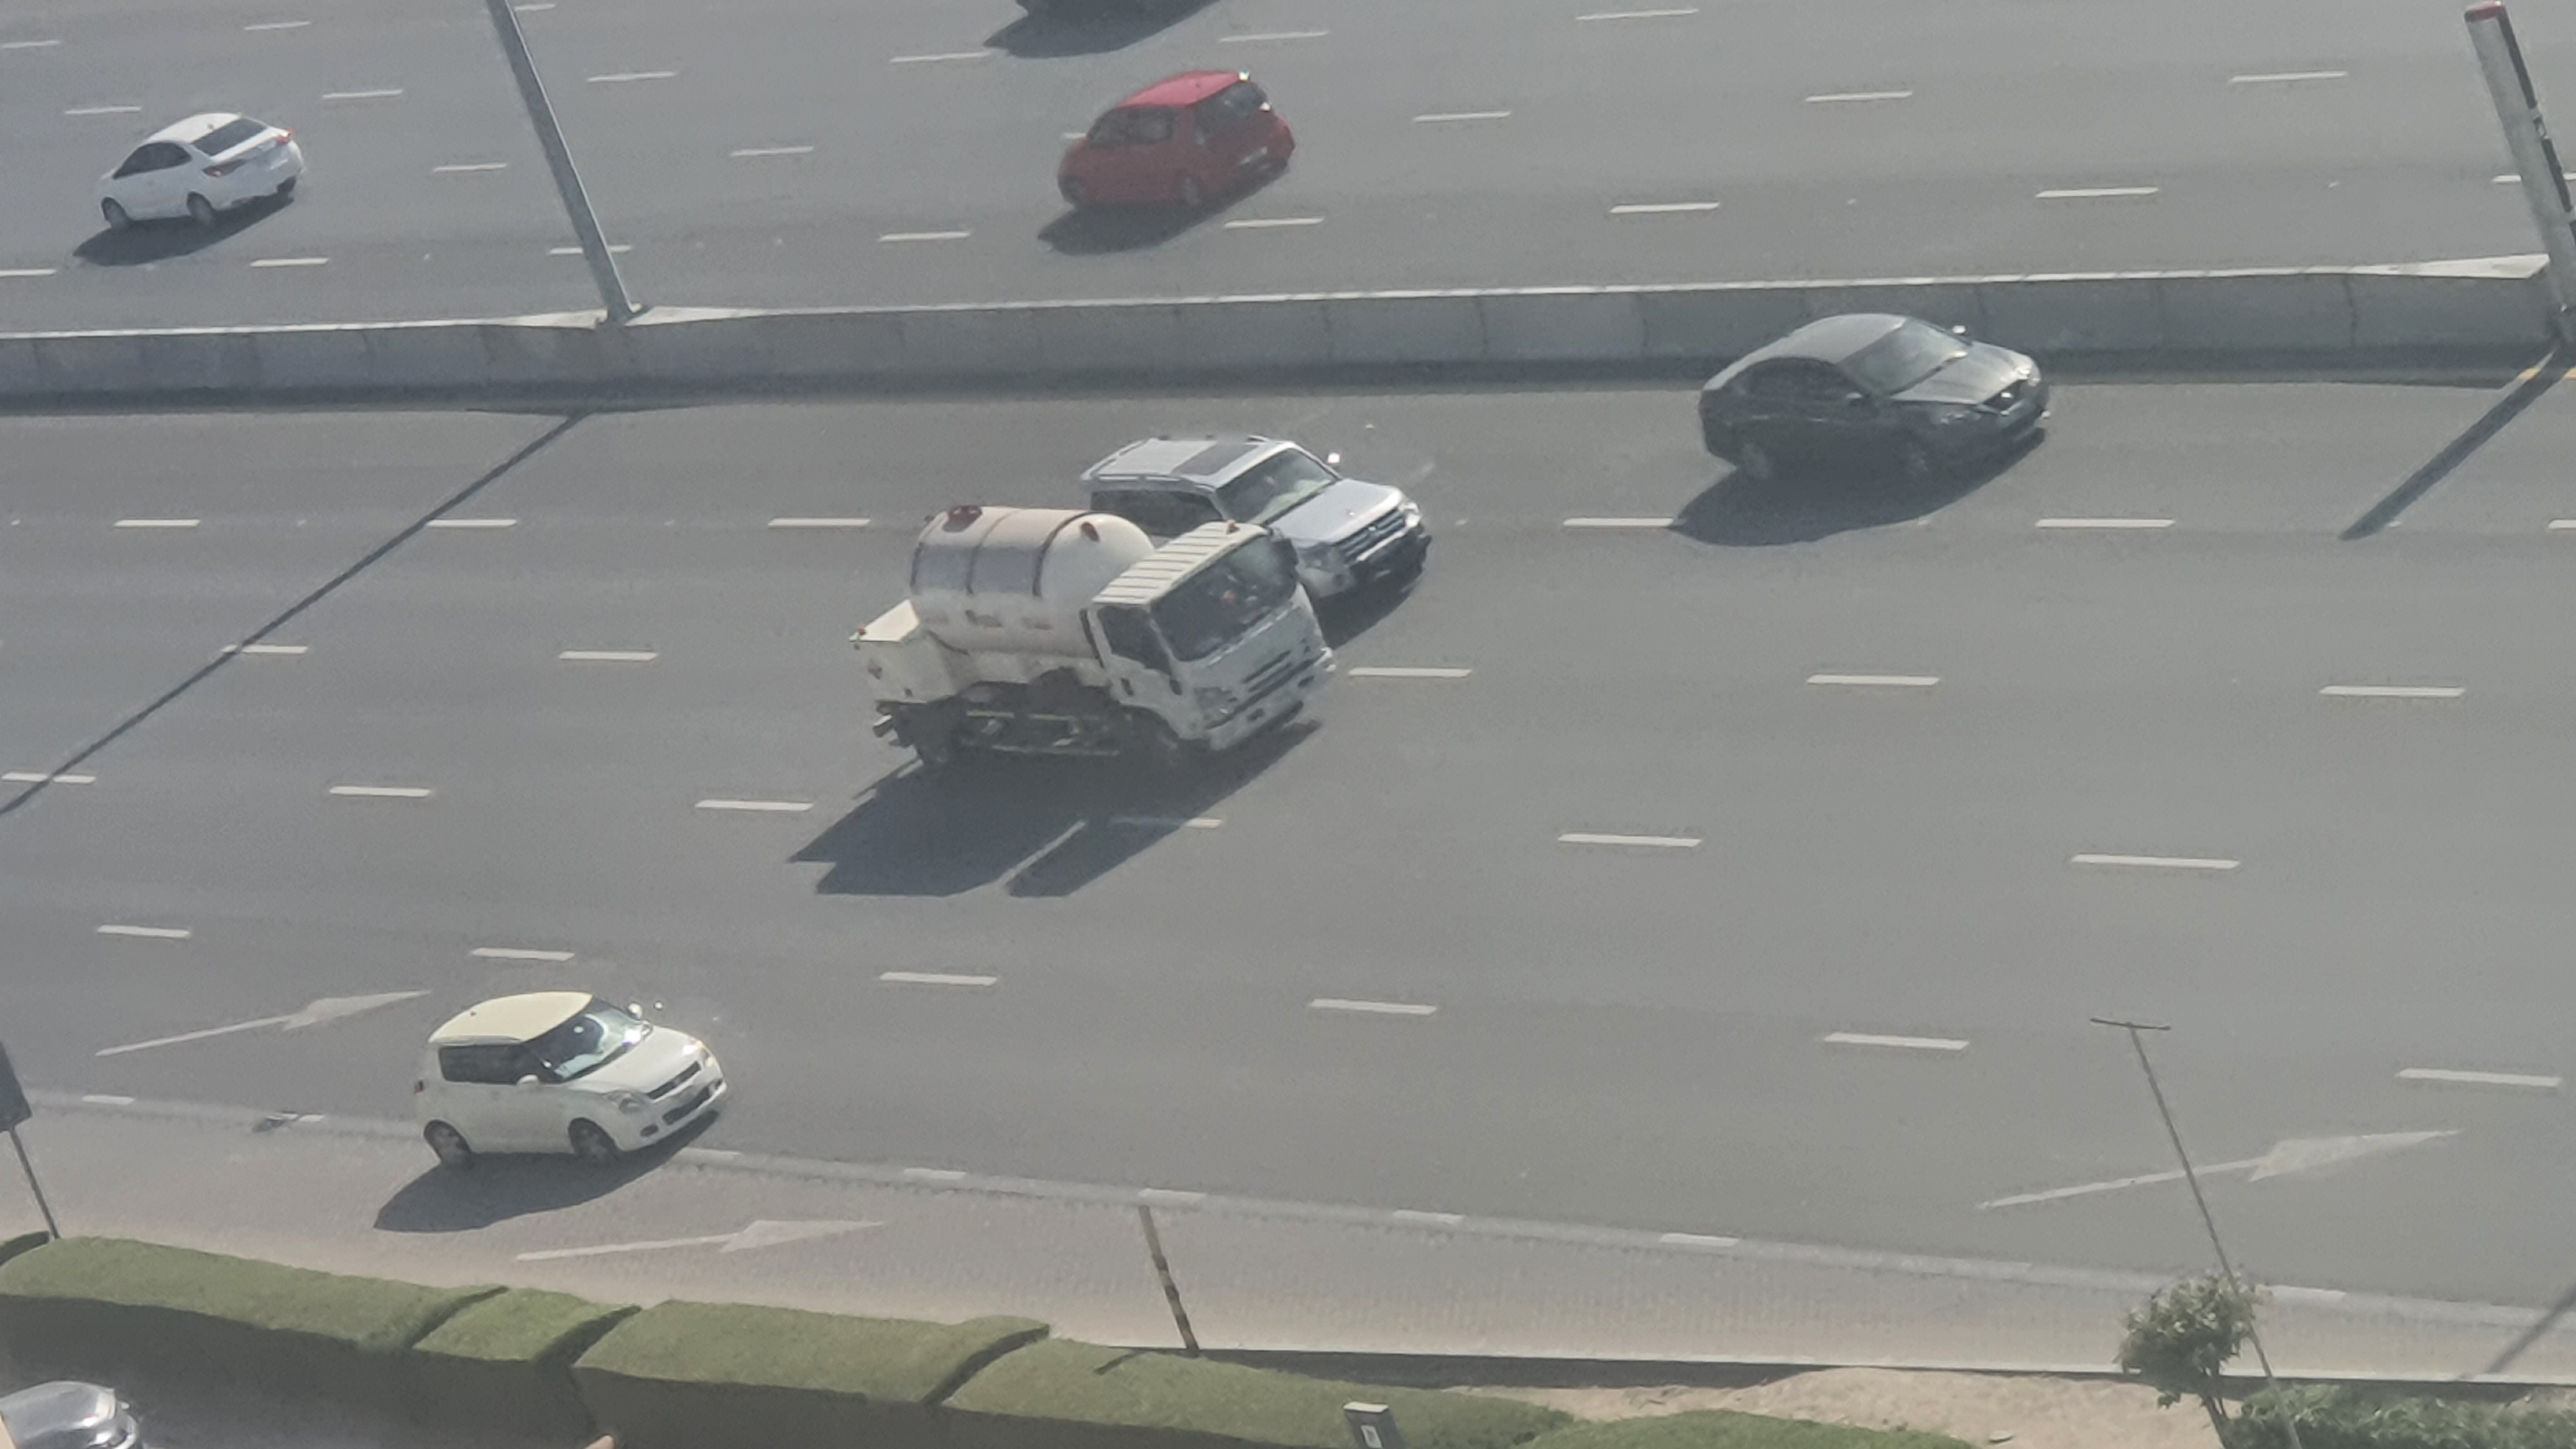NotSunroof: (1697, 310, 2066, 481), (409, 993, 727, 1171)
Sunroof: (1095, 423, 1438, 547)
